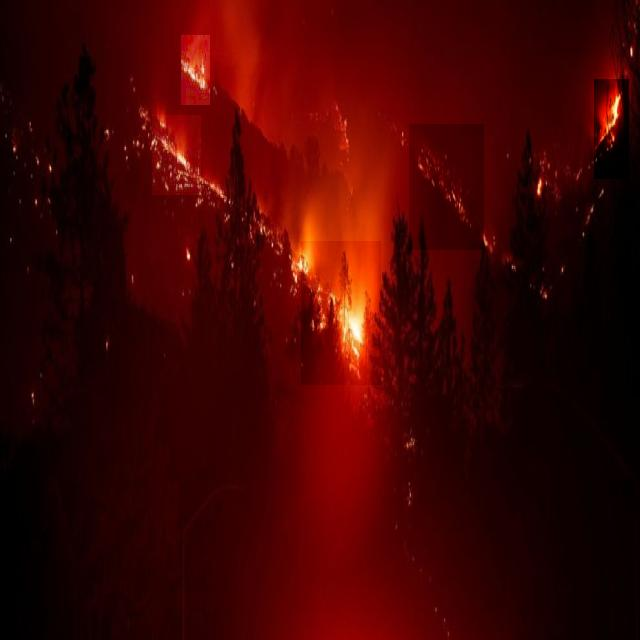Fire: (301, 241, 381, 385), (409, 124, 484, 250), (152, 115, 201, 195), (594, 79, 629, 179), (181, 35, 210, 105)
